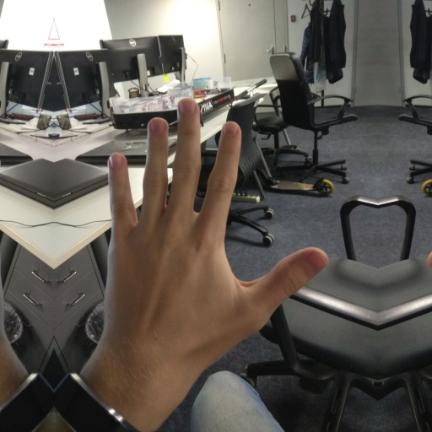Nail: (305, 251, 328, 275), (150, 118, 165, 135), (180, 98, 195, 115), (110, 152, 122, 169), (224, 122, 239, 135), (428, 255, 432, 268)
